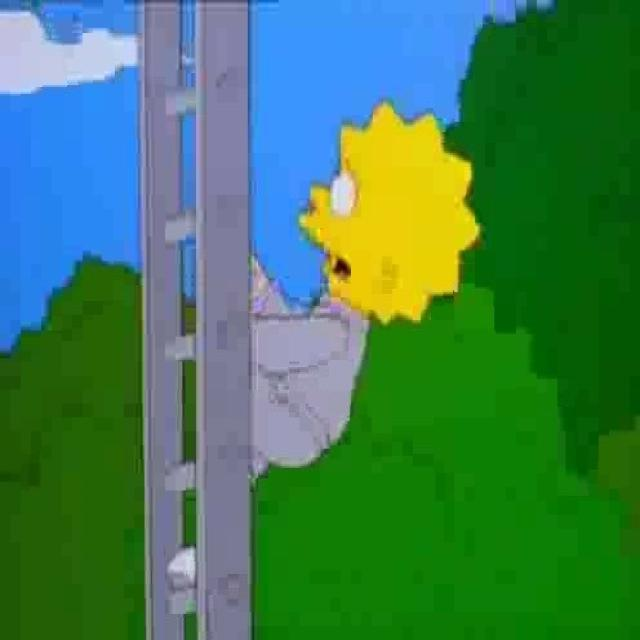Lisa Simpson: (298, 94, 484, 330)
